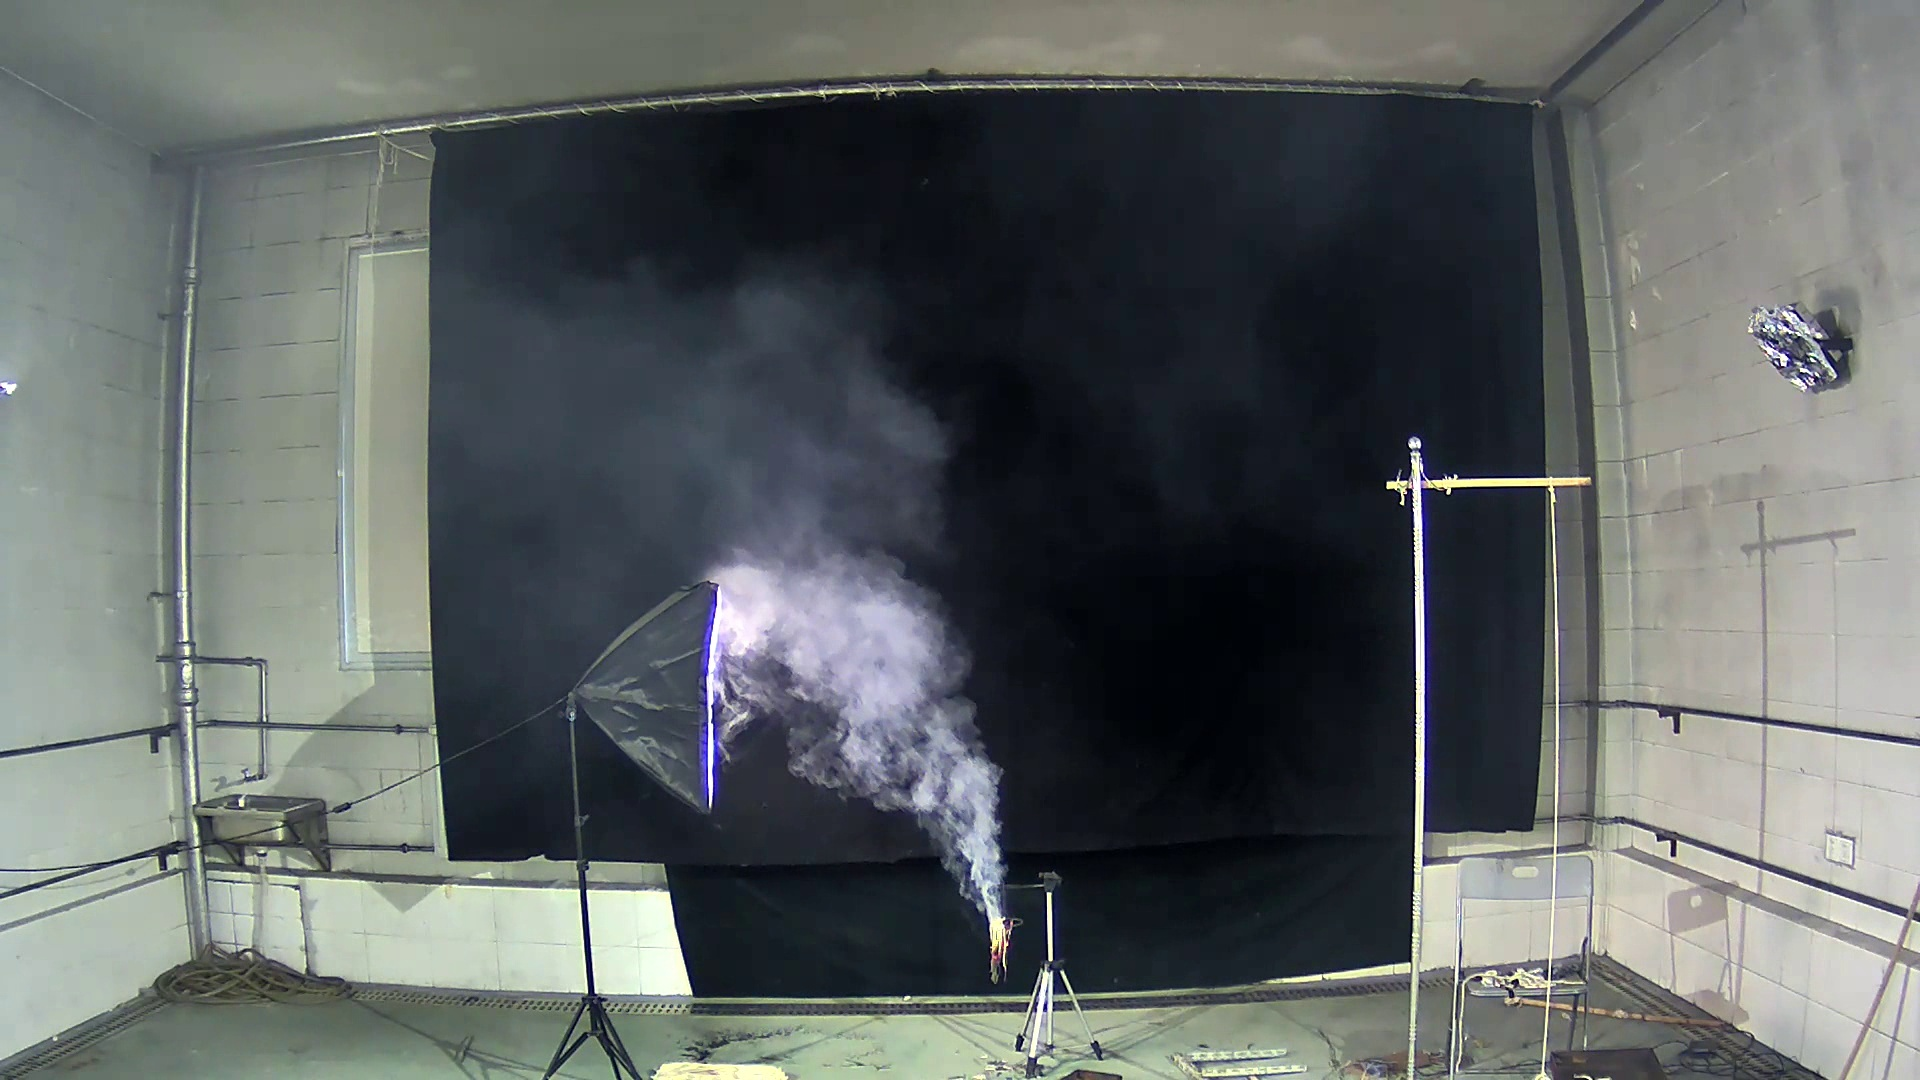smoke: (686, 262, 1006, 928)
